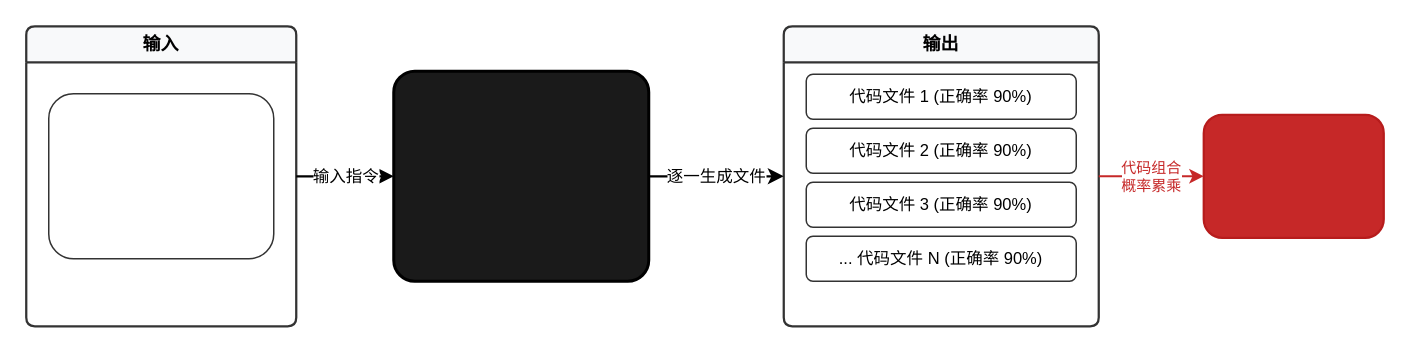
Some shapes in this 1412 by 354 pixel diagram are drawn without their labels. Each missing label, with the centre of its shape:
大模型（LLM） 【 概率黑箱 】: point 521,175
整体正确率 90% × 90% × 90% ... ➔ 趋近与 0: point 1293,175
用户输入单个任务指令 (例: "帮我写一个 完整电商后台系统"): point 160,175
